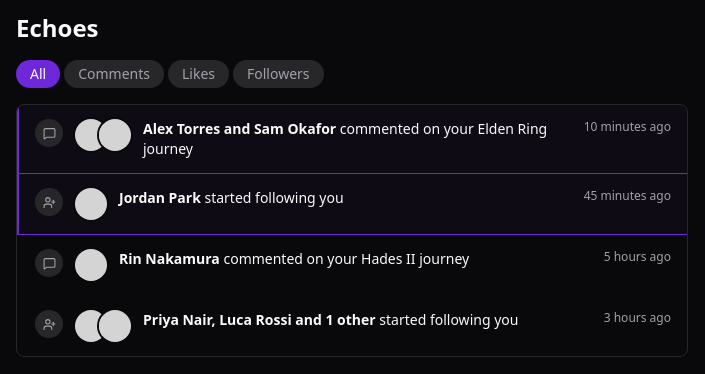
Echoes › Comments filter hides follower echoes
Click the button "Comments". click: (114, 74)
box: [64,60,164,88]
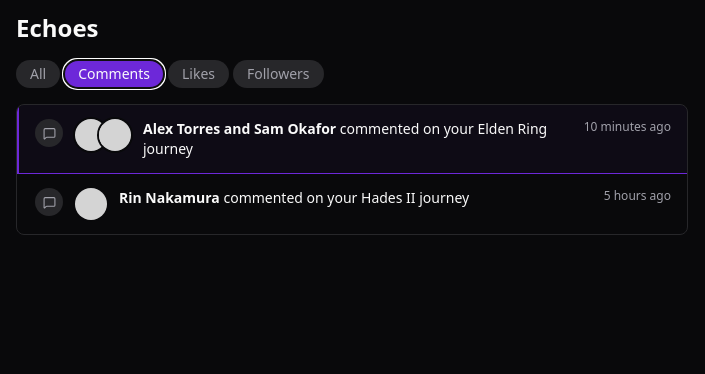
Now the link "started following you" is gone
